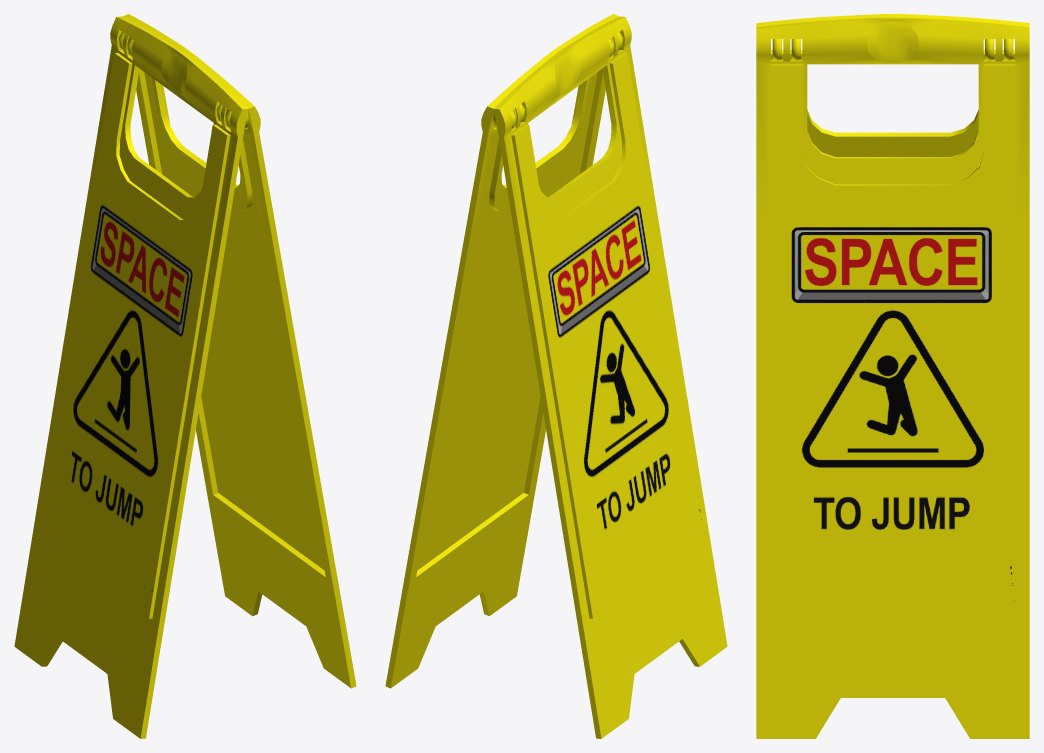
File: Wet_Floor_Sign.fbx
3 views of the same model, side by side, from view 1: azimuth 30°, elevation 25°; view 2: azimuth 150°, elevation 25°; view 3: azimuth 270°, elevation 25° (orthographic). The views are drawn at different scales.
Visible parts, largest first — view 1: Wet_Floor_Sign; view 2: Wet_Floor_Sign; view 3: Wet_Floor_Sign.
Boxes of the visible parts, x1,y1,x2,y2 form: Wet_Floor_Sign: (14, 14, 356, 738); Wet_Floor_Sign: (385, 14, 727, 738); Wet_Floor_Sign: (756, 14, 1029, 738).
Bounding box in the file's own units: 35.32 × 96.08 × 35.72.
